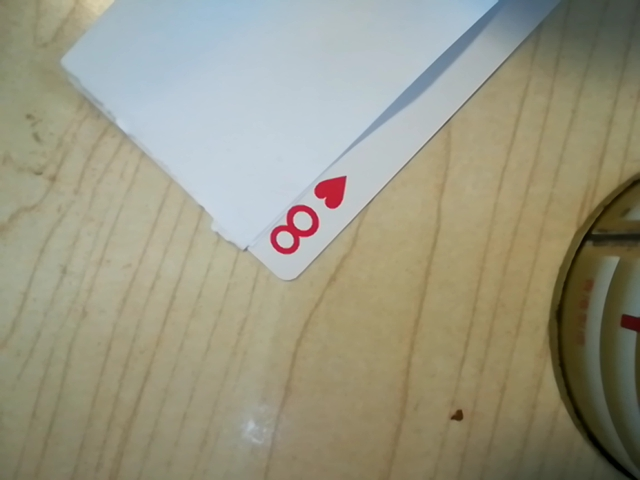hx 8: (259, 172, 348, 266)
